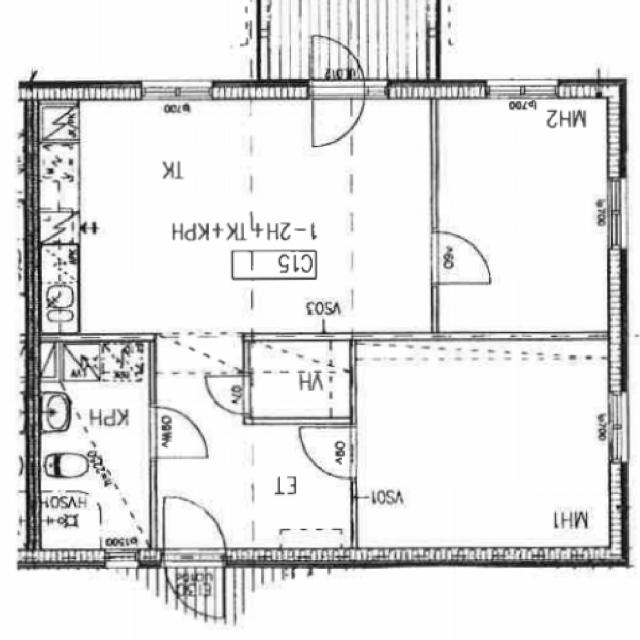door: (164, 548, 225, 626), (164, 489, 225, 567), (313, 31, 364, 100), (313, 81, 364, 150), (432, 232, 492, 284), (150, 407, 208, 458), (298, 427, 356, 478), (204, 376, 250, 414)
